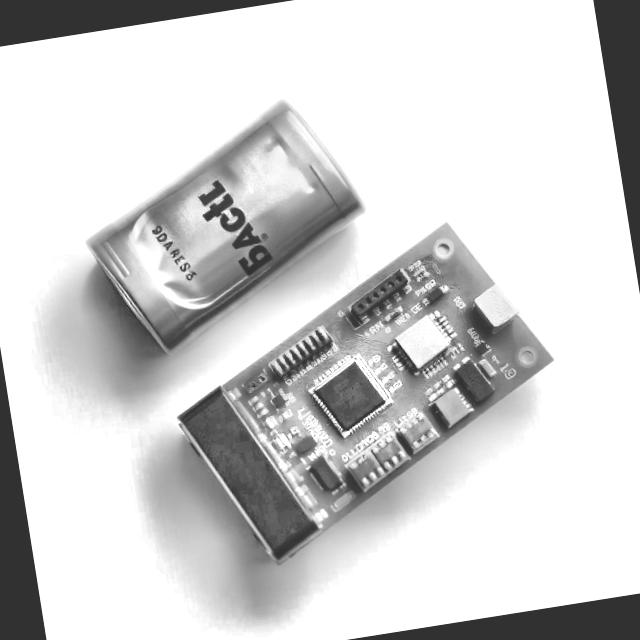Battery: (87, 100, 366, 354)
PCB: (178, 222, 551, 564)
